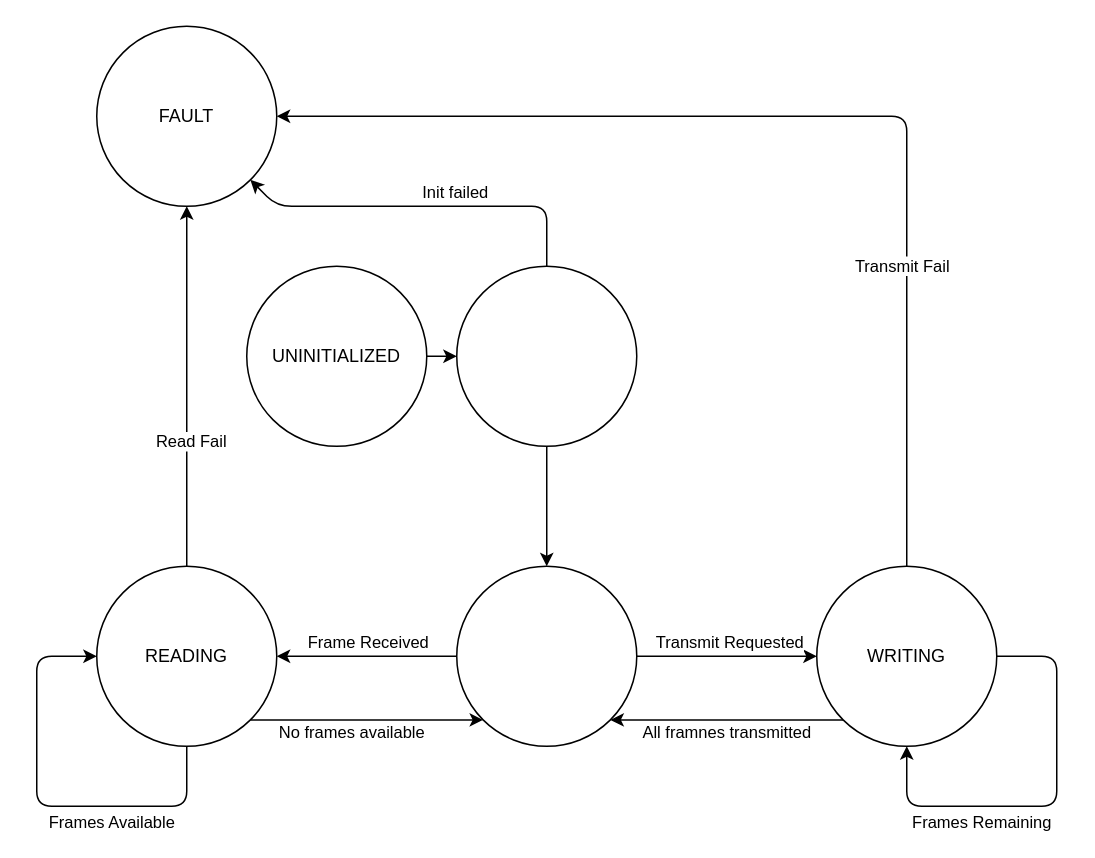
The diagram is 1095 pixels wide and 858 high, and some of its shapes have lost their labels. Each missing label, with the centre of its shape:
"IDLE" belongs at point (546, 655).
"INITIALIZING" belongs at point (546, 355).
